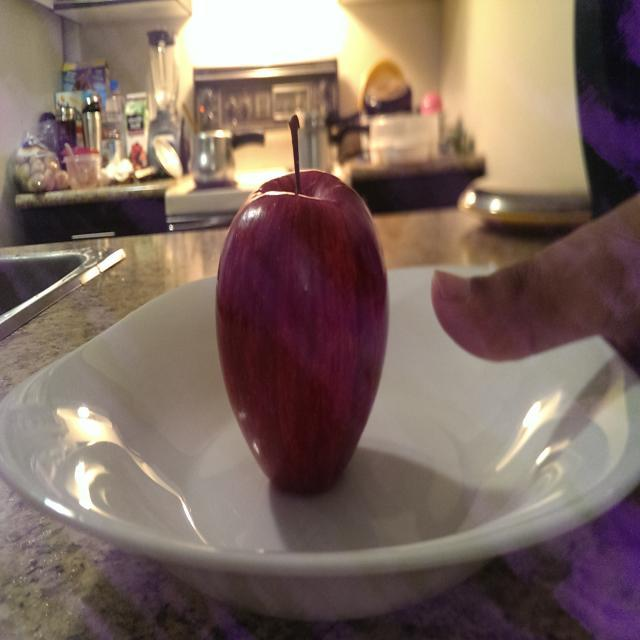Apple: (208, 104, 396, 500)
Finger: (427, 247, 543, 371)
